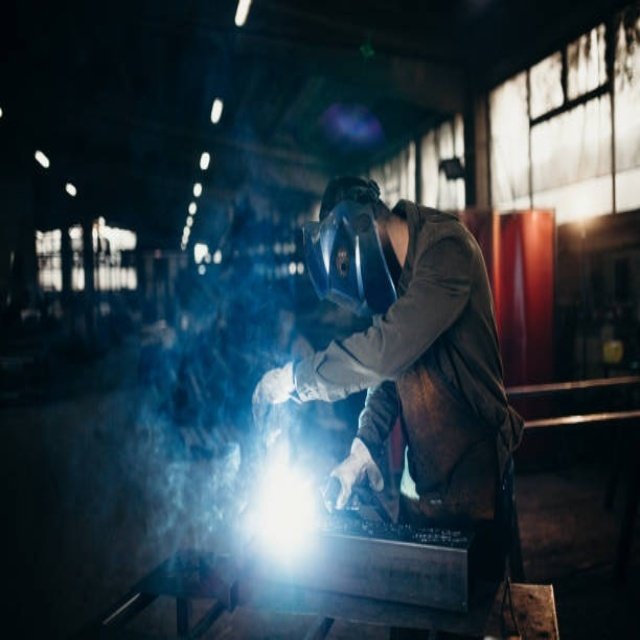Guantes: (324, 431, 384, 521), (251, 348, 300, 449)
